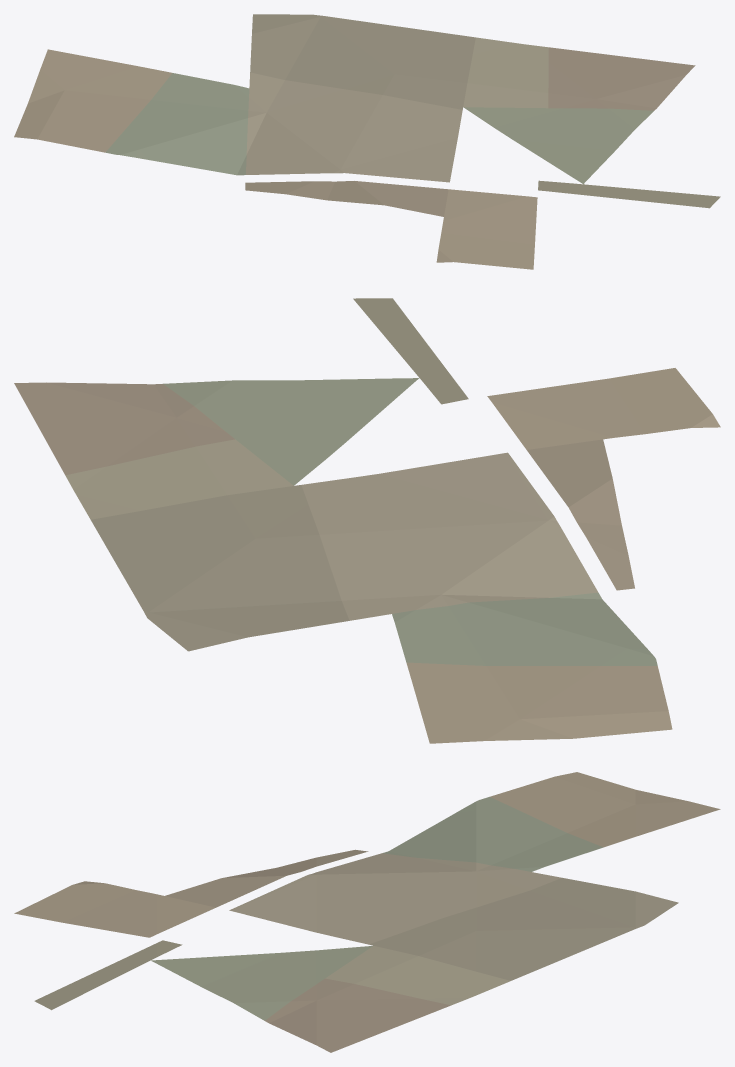
The model's file is farm_-34_-24_soil.glb.
3 views of the same model, one above another, from view 1: azimuth 30°, elevation 25°; view 2: azimuth 150°, elevation 25°; view 3: azimuth 270°, elevation 25° (orthographic). The views are drawn at different scales.
Parts seen in each view (by area): view 1: geometry_0; view 2: geometry_0; view 3: geometry_0.
Part boxes in pixels (<box>): geometry_0: <box>14,14,720,269</box>; geometry_0: <box>14,298,720,743</box>; geometry_0: <box>14,772,720,1052</box>.
Bounding box in the file's own units: 355 × 17 × 354.
